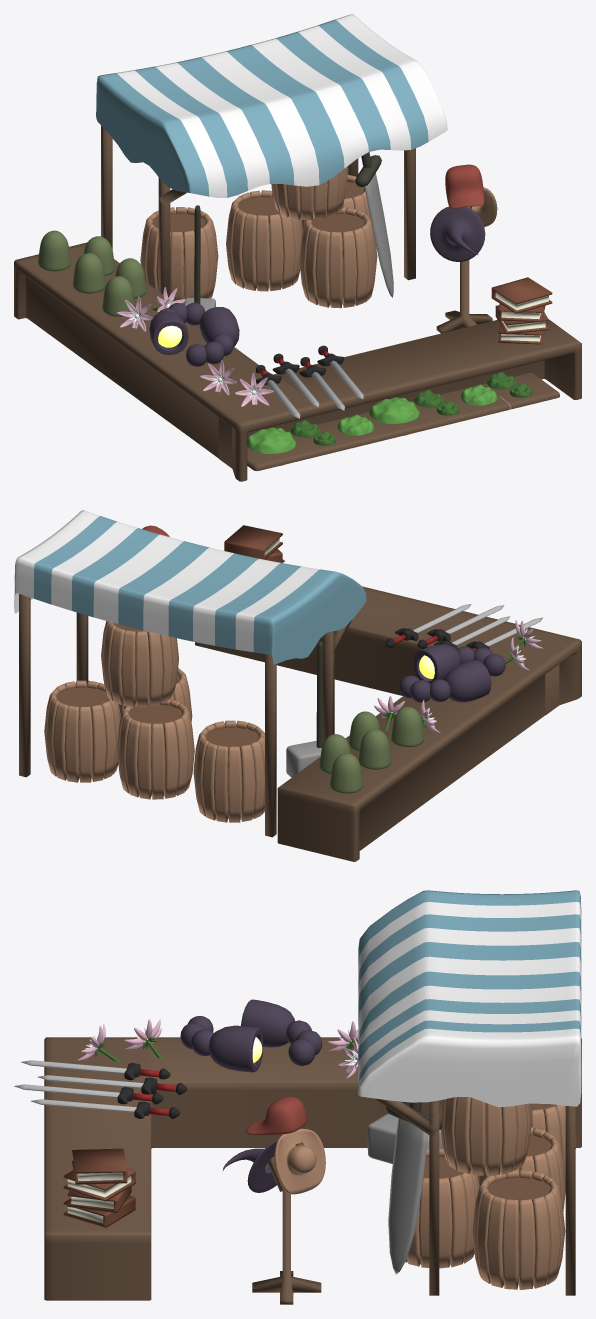
Rendered from ShopkeepersStall.glb.
3 views of the same model, one above another, from view 1: azimuth 30°, elevation 25°; view 2: azimuth 150°, elevation 25°; view 3: azimuth 270°, elevation 25° (orthographic). The views are drawn at different scales.
Visible parts, largest first — view 1: Shopkeeper's Stall; view 2: Shopkeeper's Stall; view 3: Shopkeeper's Stall.
Part boxes in pixels (x1,y1,x2,y2): Shopkeeper's Stall: (14,14,581,481); Shopkeeper's Stall: (14,510,581,861); Shopkeeper's Stall: (14,890,581,1304).
Size of the model in its own units: 6.99 by 4.16 by 8.14.
